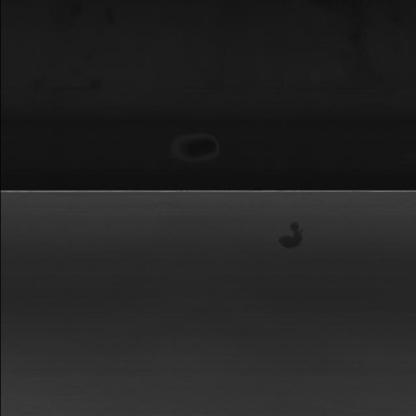oil_spot: (266, 212, 311, 252)
